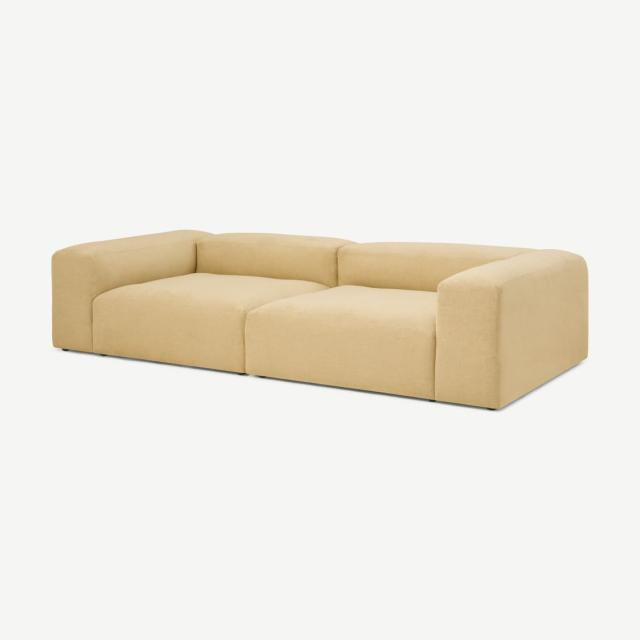Soffa: (38, 212, 587, 412)
